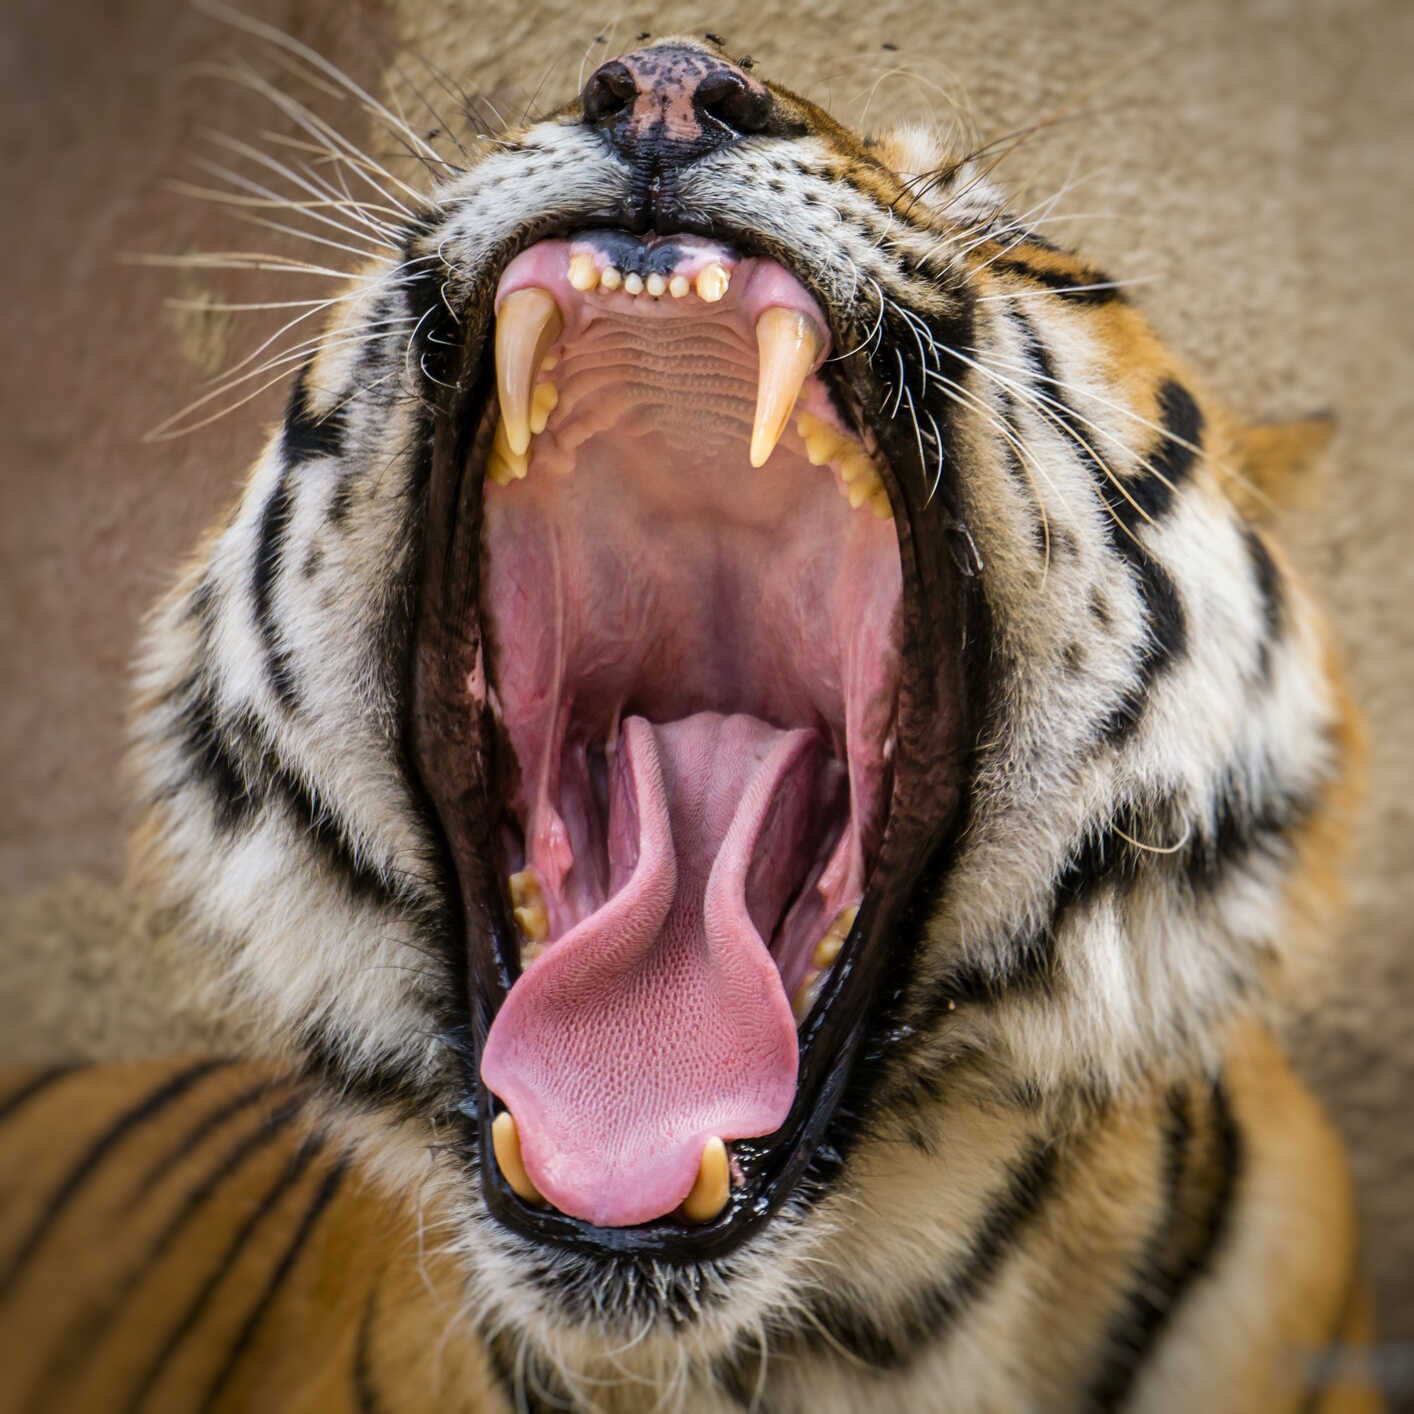tiger: (142, 62, 1345, 1329)
